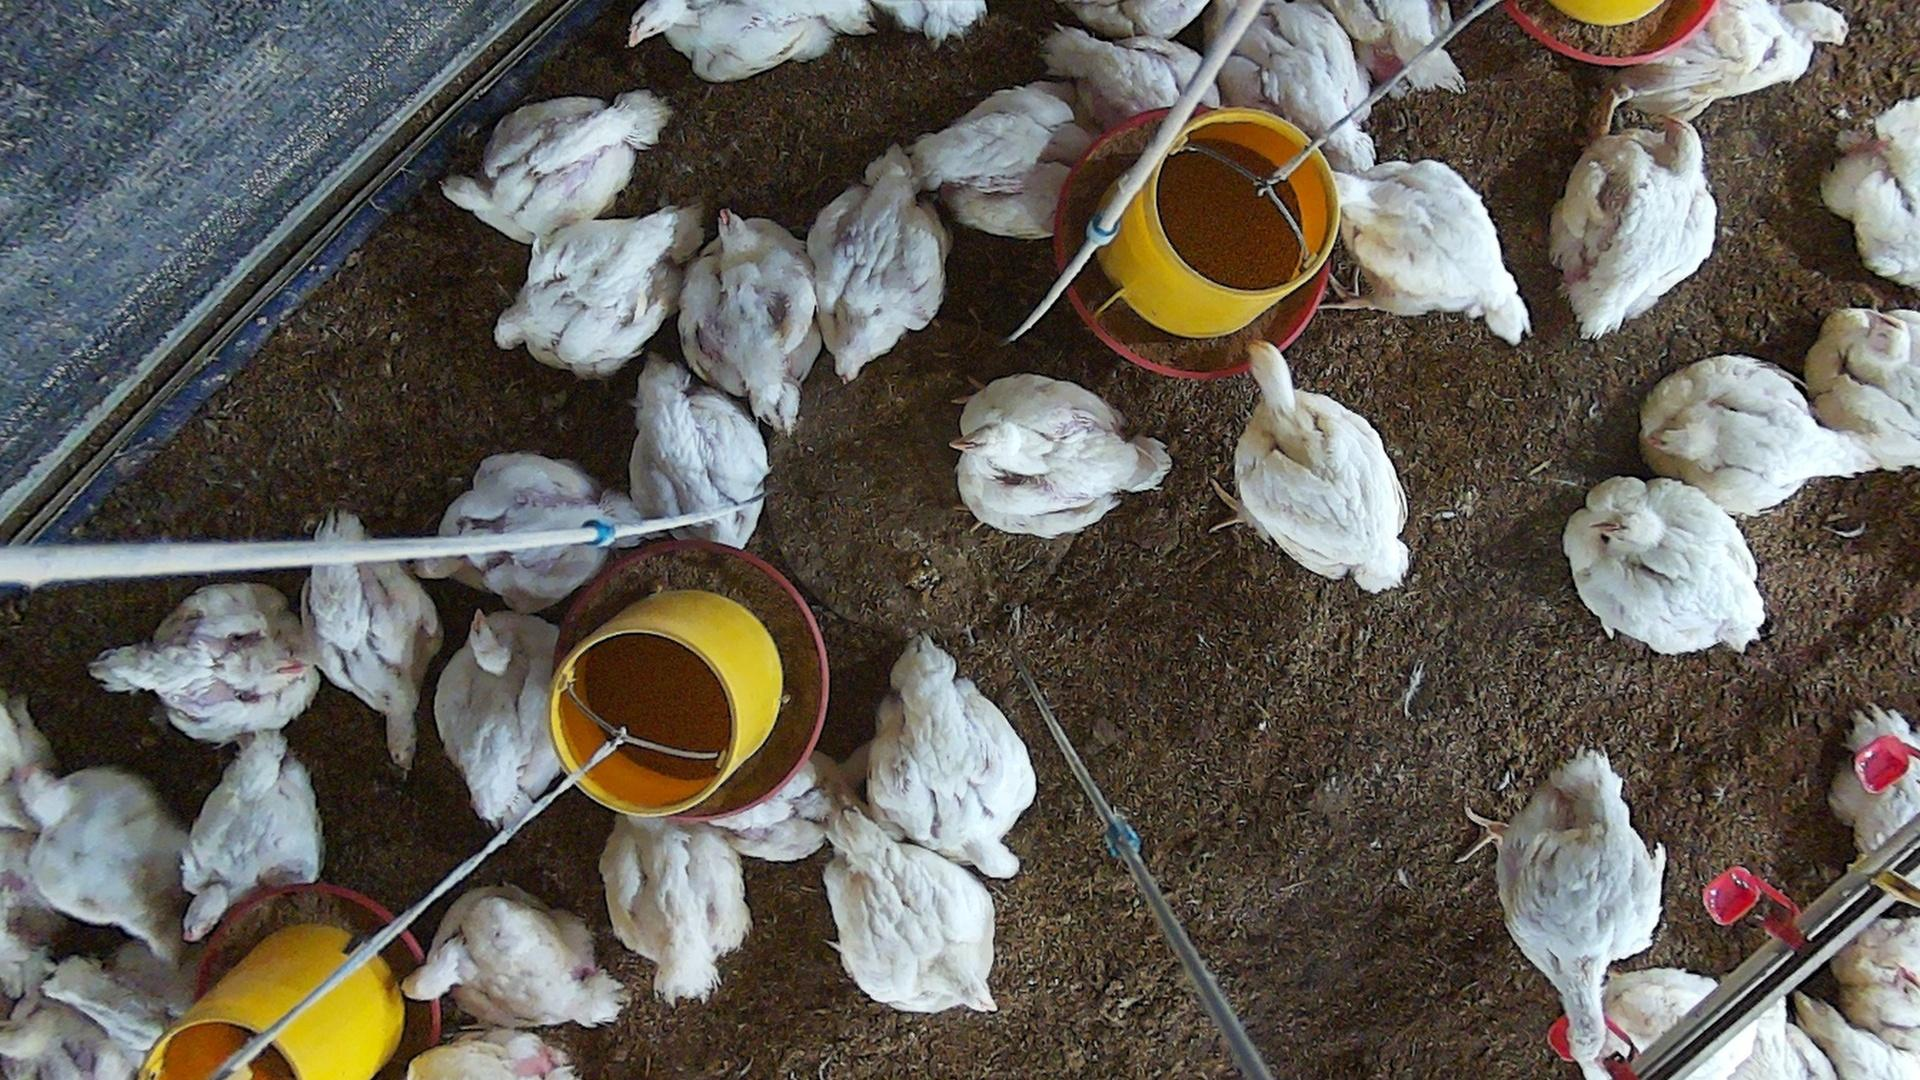ayam_broiler: (1453, 752, 1662, 1052), (1229, 343, 1406, 592), (870, 636, 1036, 874), (1331, 156, 1530, 343), (92, 583, 319, 745), (1650, 357, 1880, 514), (1549, 124, 1717, 338), (1564, 476, 1763, 653), (825, 808, 996, 1013), (303, 512, 439, 767), (953, 377, 1167, 539), (439, 454, 659, 608), (442, 94, 666, 241), (808, 144, 947, 378), (495, 208, 684, 378), (1588, 0, 1850, 123), (678, 211, 820, 435), (21, 765, 183, 960), (433, 613, 567, 839), (407, 890, 626, 1029), (181, 733, 322, 944), (597, 822, 748, 1002), (1209, 0, 1374, 161), (630, 361, 769, 546), (913, 83, 1077, 237), (711, 750, 878, 869), (632, 0, 873, 82), (1821, 98, 1920, 293), (1803, 309, 1920, 472), (1, 953, 152, 1080), (1043, 29, 1216, 119), (1828, 704, 1920, 866), (1327, 1, 1472, 95), (414, 1030, 575, 1080)
